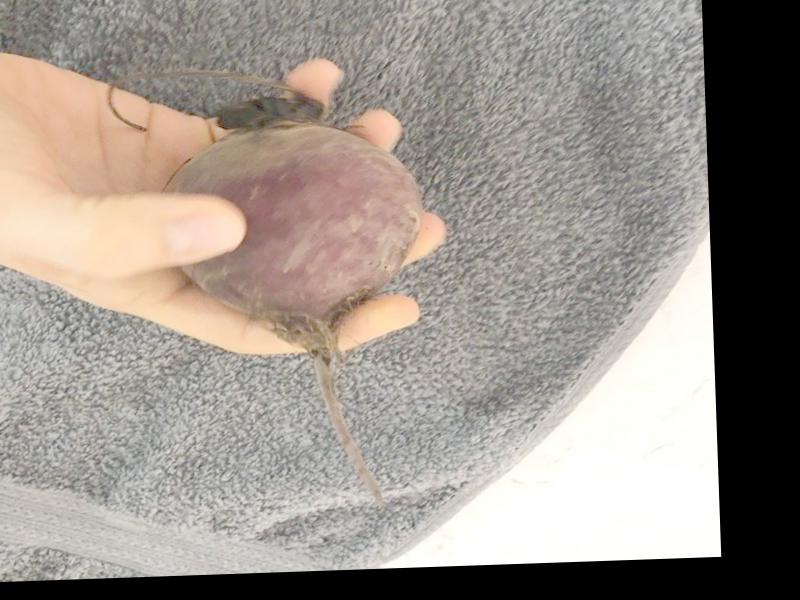Beet: (159, 93, 433, 516)
